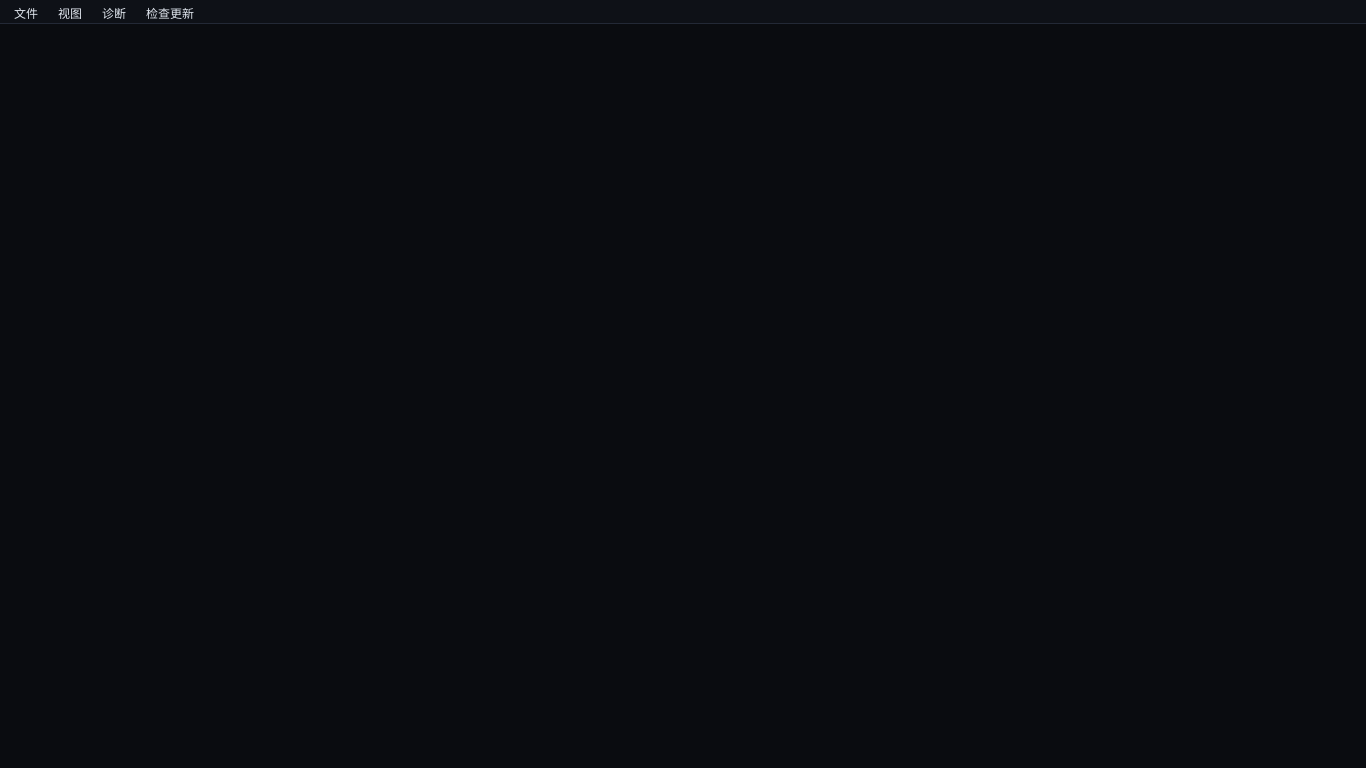
Test: shows update progress and the result in the save-style modal
What coordinates should you click on to do the following:
click the menu item "检查更新"
I would click on:
 (170, 12)
Its box is [136, 0, 204, 24].
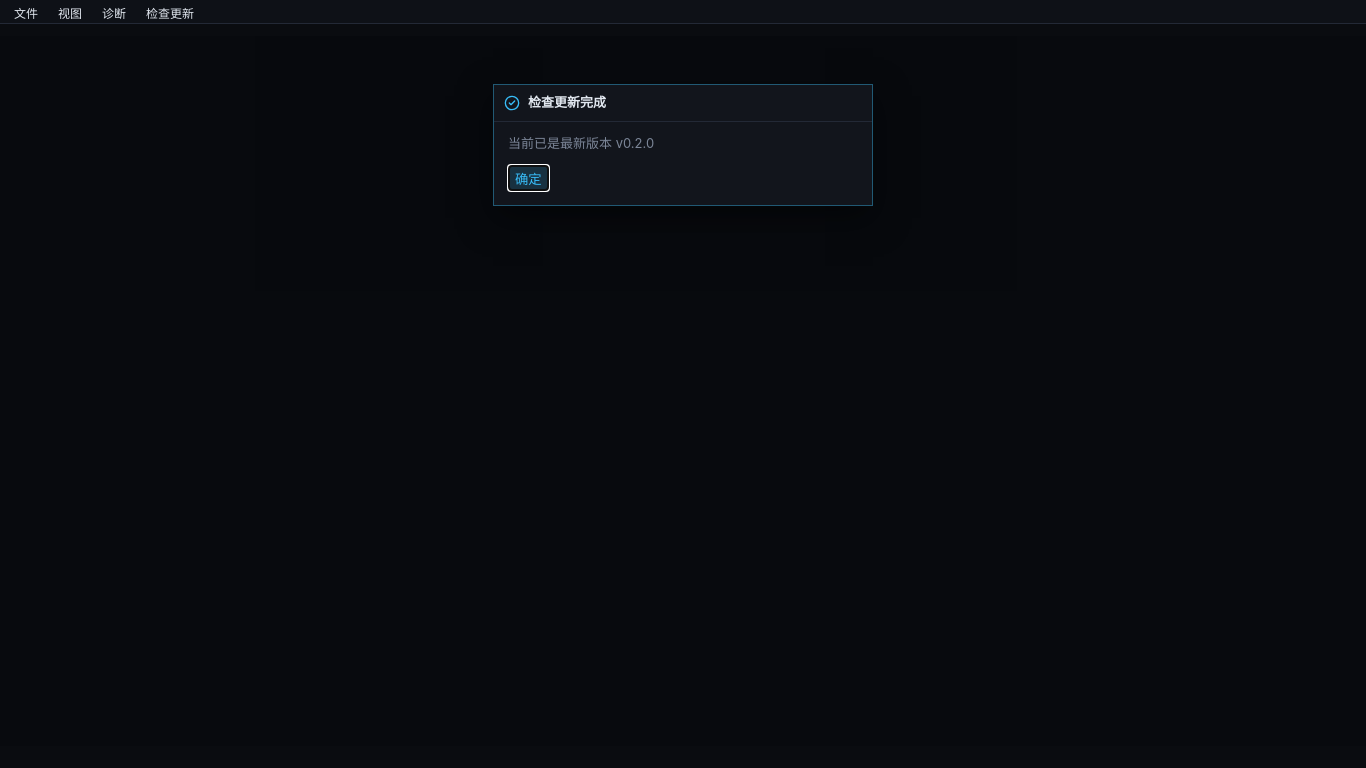
Now the element named "检查更新进度" is shown
Now the dialog "检查更新完成" shows "当前已是最新版本 v0.2.0", box [508, 134, 654, 150]
What coordinates should you click on to do the following:
click the button "确定"
I would click on:
 (528, 178)
Its box is [508, 165, 549, 191].
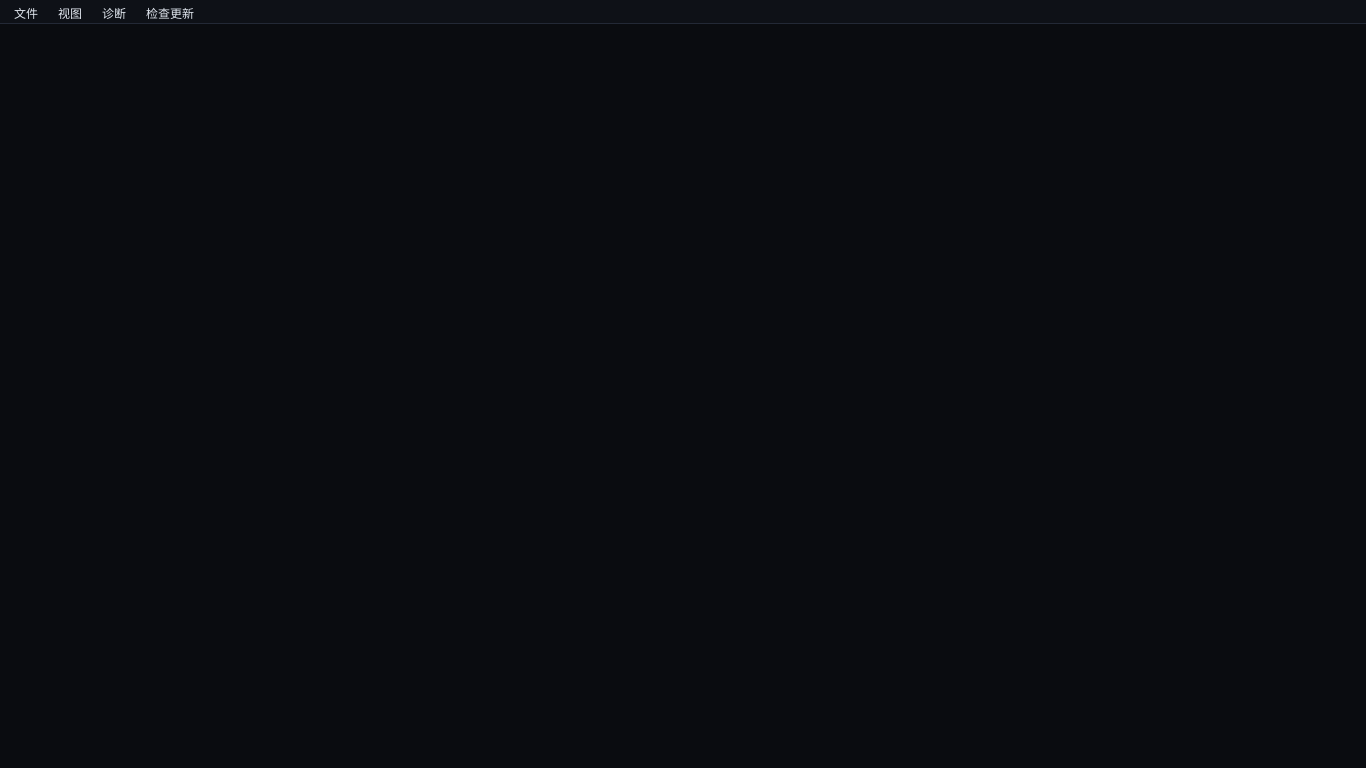
Now the dialog is gone
